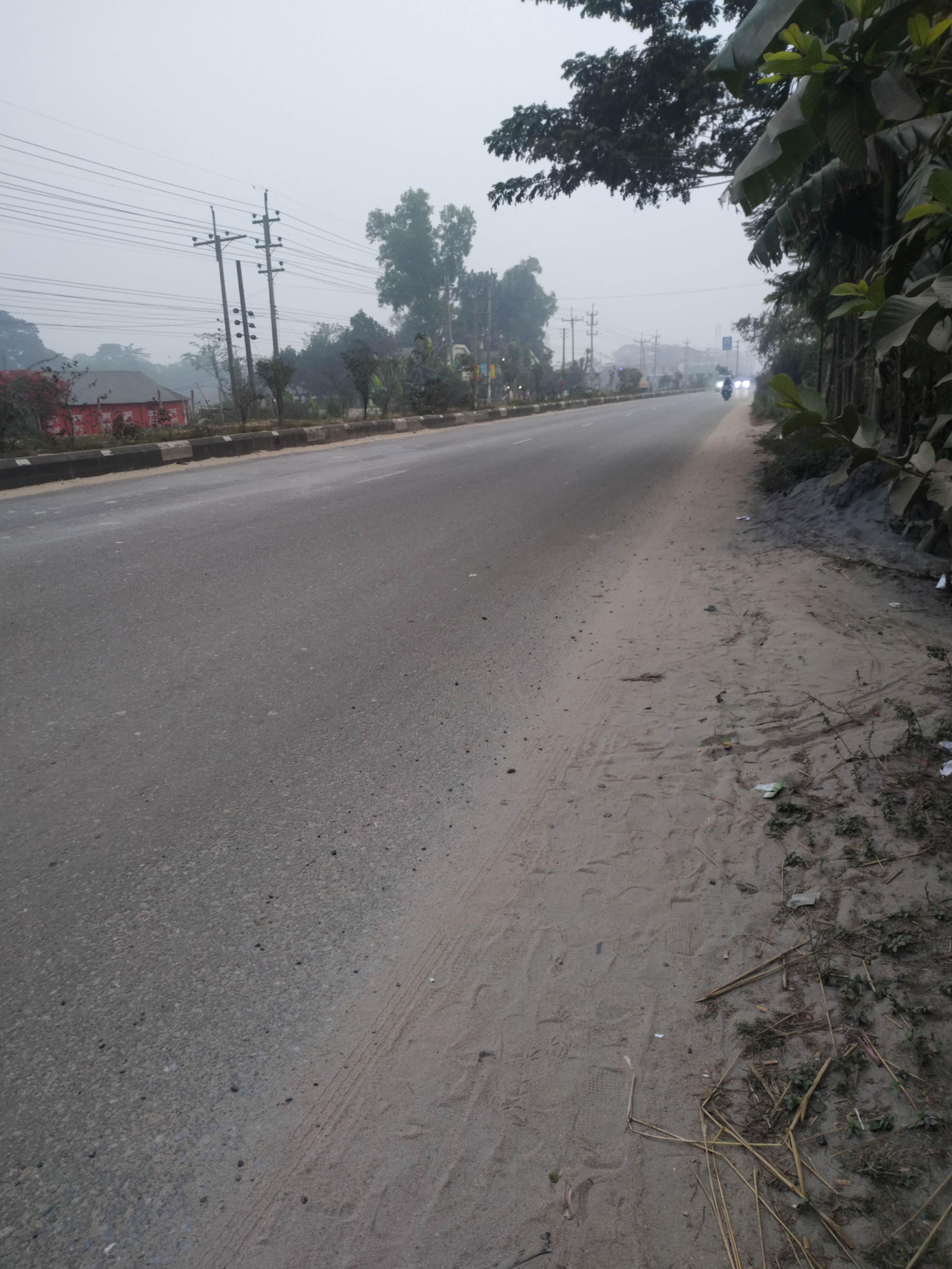Bike: (715, 371, 744, 406)
